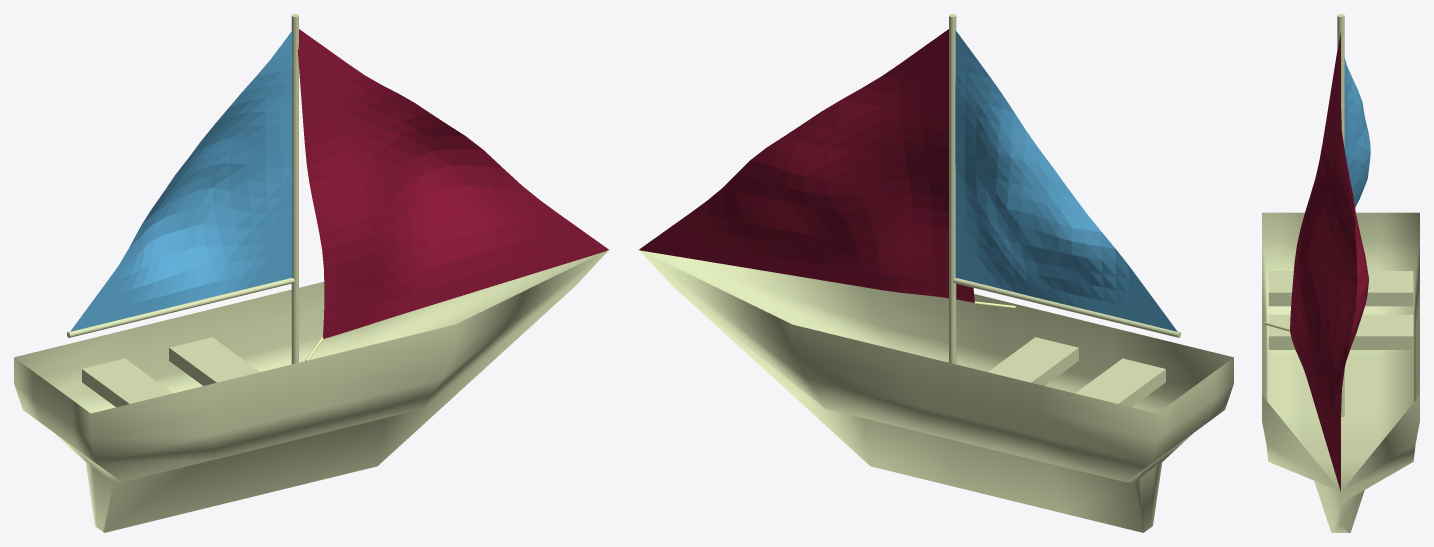
Rendered from sail-boat.glb.
The picture shows the model from 3 angles, left to right: view 1: azimuth 30°, elevation 25°; view 2: azimuth 150°, elevation 25°; view 3: azimuth 270°, elevation 25°; orthographic projection. The views are drawn at different scales.
Parts seen in each view (by area): view 1: Cube.003, Plane.001, Plane, Cube.002, Cube, Cylinder, Cylinder.001; view 2: Cube.003, Plane.001, Plane, Cube.002, Cube, Cylinder, Cylinder.001; view 3: Cube.003, Plane.001, Cube.002, Cube, Plane, Cylinder.
Part boxes in pixels (bbox=[...]): Cube.003: bbox=[14, 249, 609, 532]; Plane.001: bbox=[297, 29, 609, 338]; Plane: bbox=[70, 31, 292, 331]; Cube.002: bbox=[169, 337, 259, 385]; Cube: bbox=[82, 358, 172, 407]; Cylinder: bbox=[291, 14, 298, 364]; Cylinder.001: bbox=[67, 278, 294, 337]; Cube.003: bbox=[638, 249, 1233, 532]; Plane.001: bbox=[638, 29, 974, 302]; Plane: bbox=[955, 30, 1177, 331]; Cube.002: bbox=[988, 337, 1078, 385]; Cube: bbox=[1075, 358, 1165, 407]; Cylinder: bbox=[949, 14, 956, 364]; Cylinder.001: bbox=[953, 278, 1180, 337]; Cube.003: bbox=[1262, 212, 1419, 532]; Plane.001: bbox=[1290, 32, 1368, 491]; Cube.002: bbox=[1268, 314, 1413, 349]; Cube: bbox=[1268, 271, 1413, 306]; Plane: bbox=[1344, 58, 1370, 207]; Cylinder: bbox=[1337, 14, 1344, 417].
Bounding box in the file's own units: 4.6 × 3.68 × 1.1.
